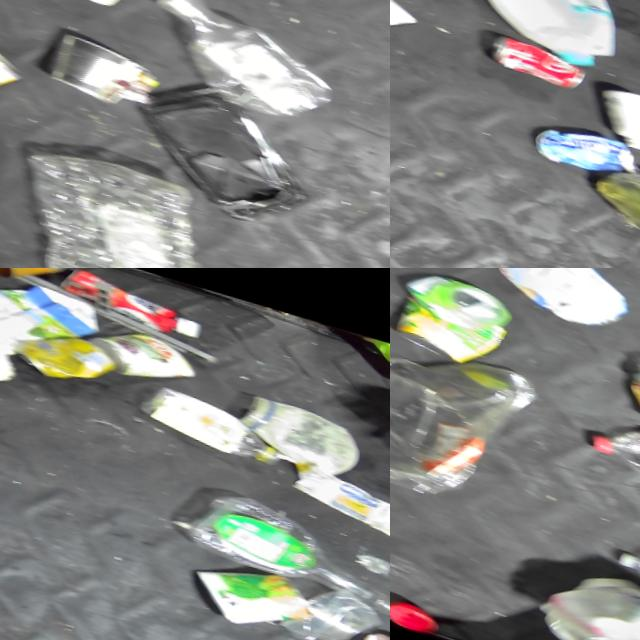can: (175, 538, 314, 638), (390, 268, 517, 372), (36, 23, 148, 110), (464, 16, 589, 90), (89, 315, 201, 390), (12, 313, 116, 391), (524, 107, 636, 179), (0, 19, 27, 107), (0, 268, 64, 289)
milk_jug: (509, 546, 640, 640), (442, 0, 628, 66)
plastic_bottle: (125, 0, 339, 116), (15, 141, 208, 268), (579, 401, 640, 499)
